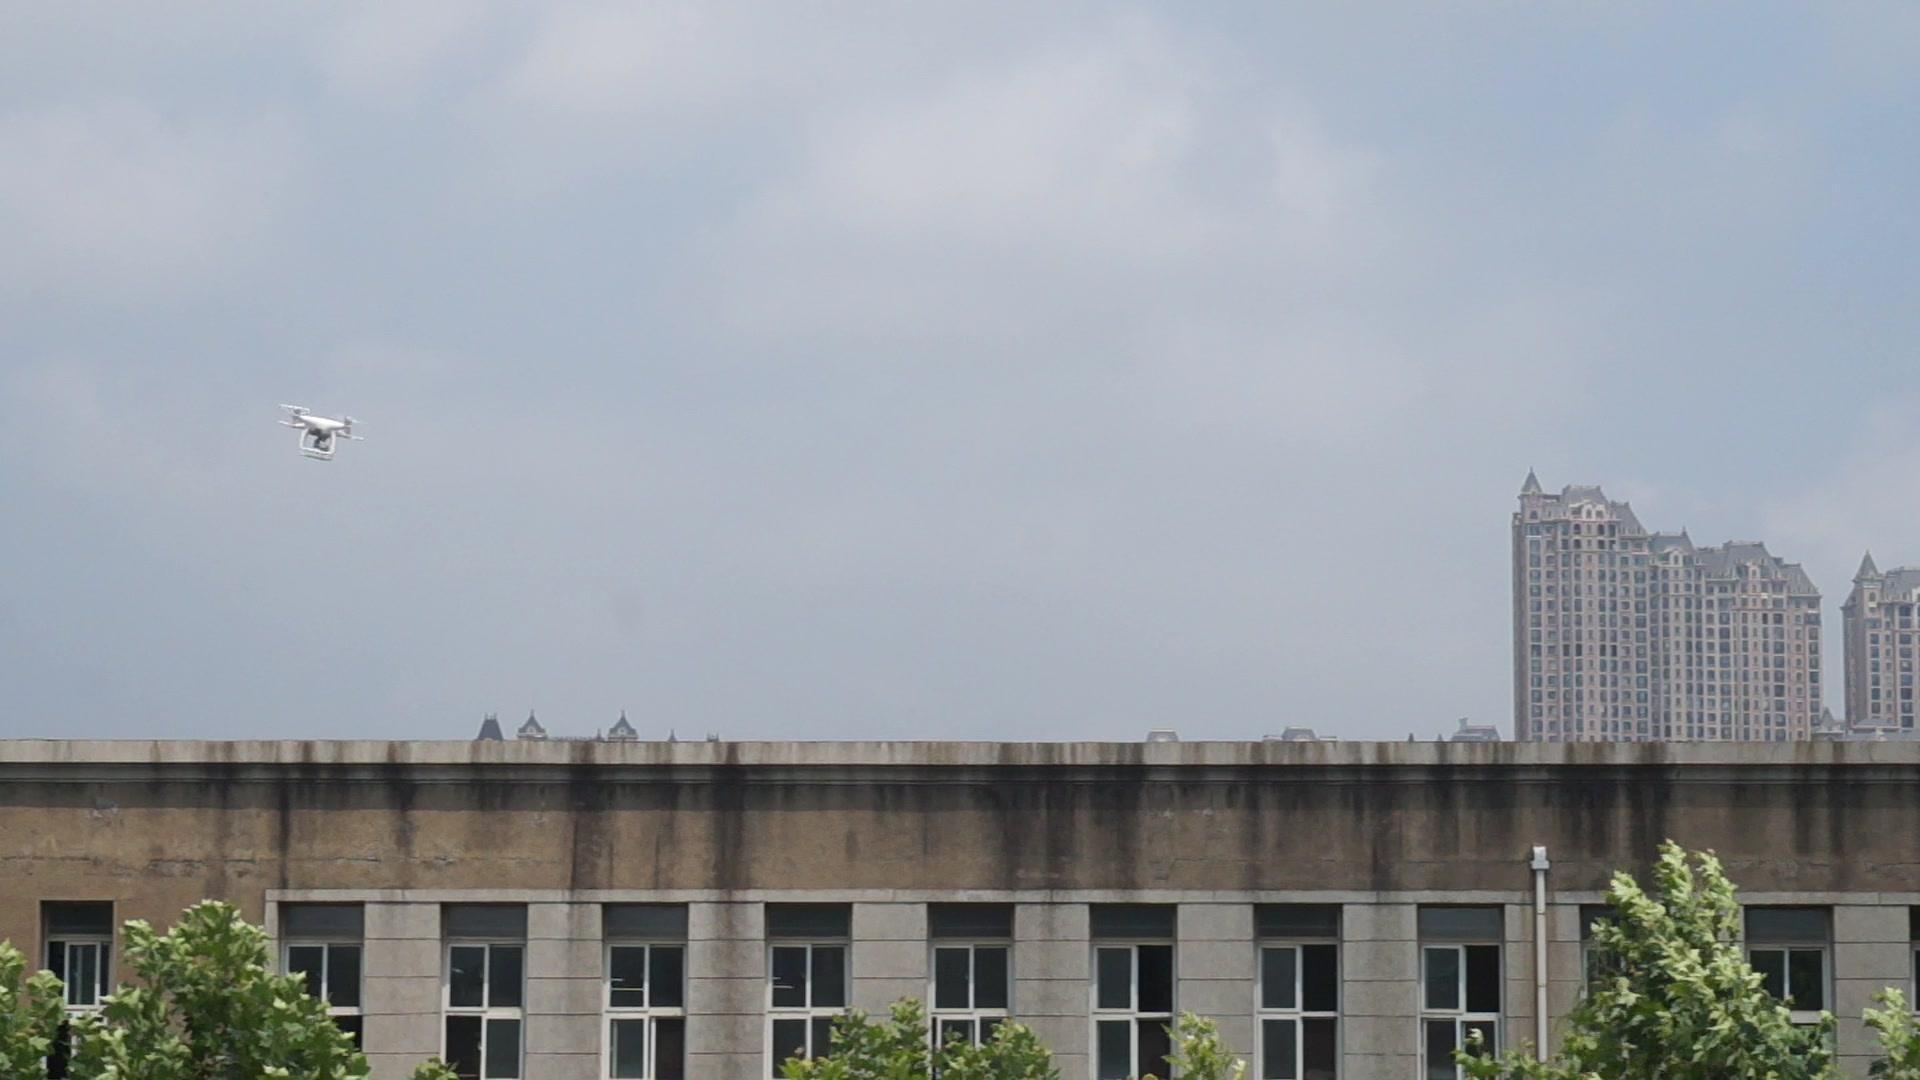UAV: (280, 404, 367, 462)
